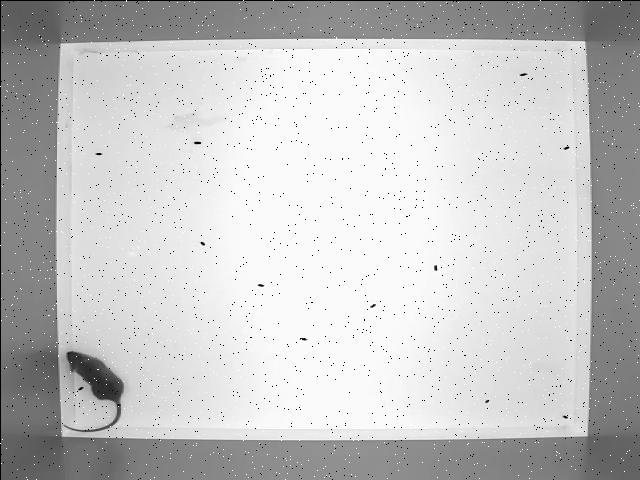Tikus: (61, 350, 122, 432)
